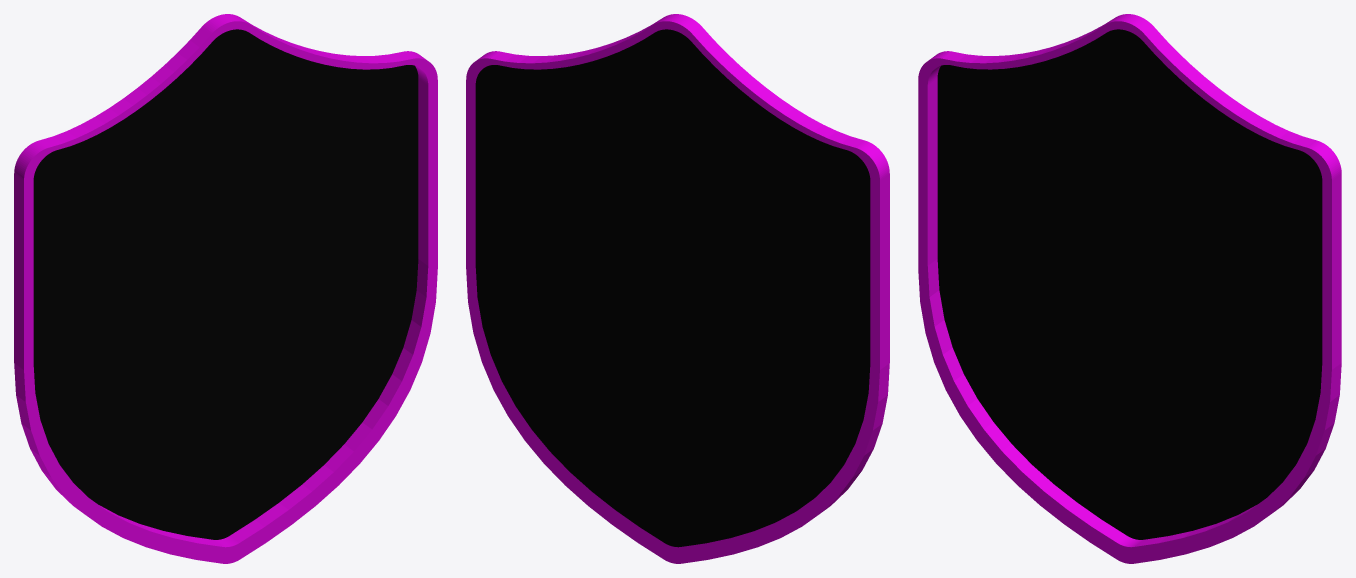
File: shield.glb
3 views of the same model, side by side, from view 1: azimuth 30°, elevation 25°; view 2: azimuth 150°, elevation 25°; view 3: azimuth 330°, elevation 25° (orthographic).
Visible parts, largest first — view 1: Curve; view 2: Curve; view 3: Curve.
Boxes of the visible parts, left/top/right/bottom form: Curve: left=14, top=14, right=437, bottom=563; Curve: left=466, top=14, right=889, bottom=563; Curve: left=918, top=14, right=1341, bottom=563.
Bounding box in the file's own units: 3.71 × 4.63 × 0.1525.
